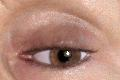eye: (50, 49, 80, 65)
